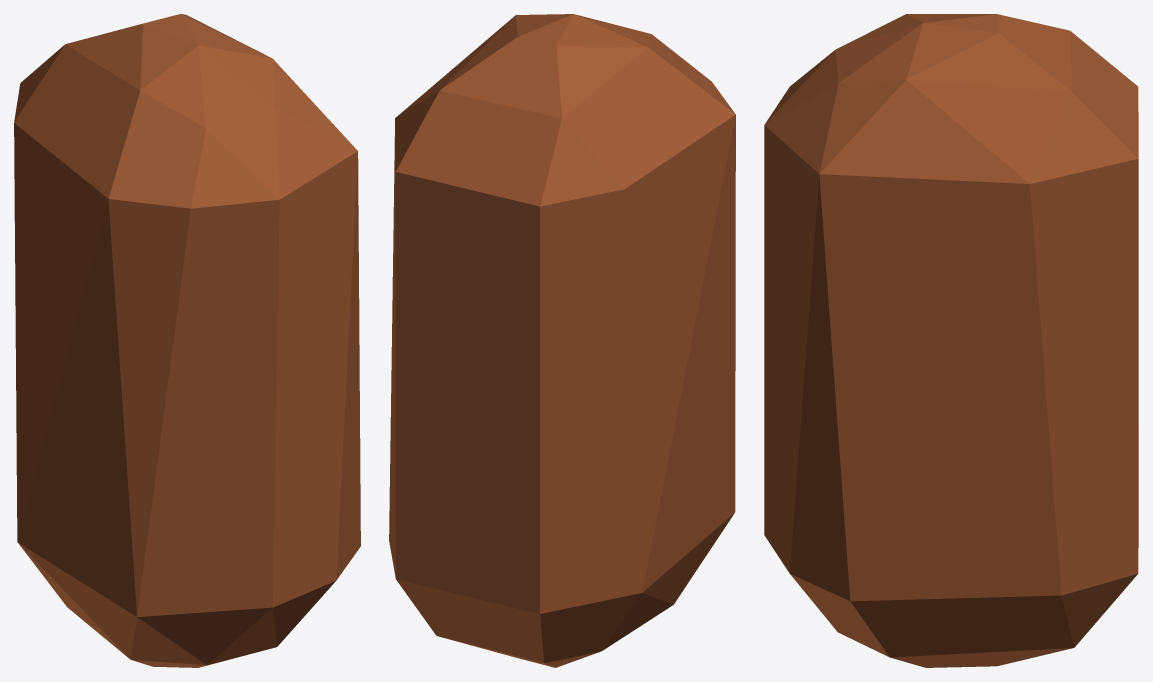
Rendered from RavagerHitbox.fbx.
The picture shows the model from 3 angles, left to right: view 1: azimuth 30°, elevation 25°; view 2: azimuth 150°, elevation 25°; view 3: azimuth 270°, elevation 25°; orthographic projection.
Visible parts, largest first — view 1: Capsula.001; view 2: Capsula.001; view 3: Capsula.001.
Boxes of the visible parts, x1,y1,x2,y2 form: Capsula.001: [14, 14, 360, 667]; Capsula.001: [389, 14, 735, 667]; Capsula.001: [764, 14, 1138, 667].
Size of the model in its own units: 97.55 by 229 by 123.
